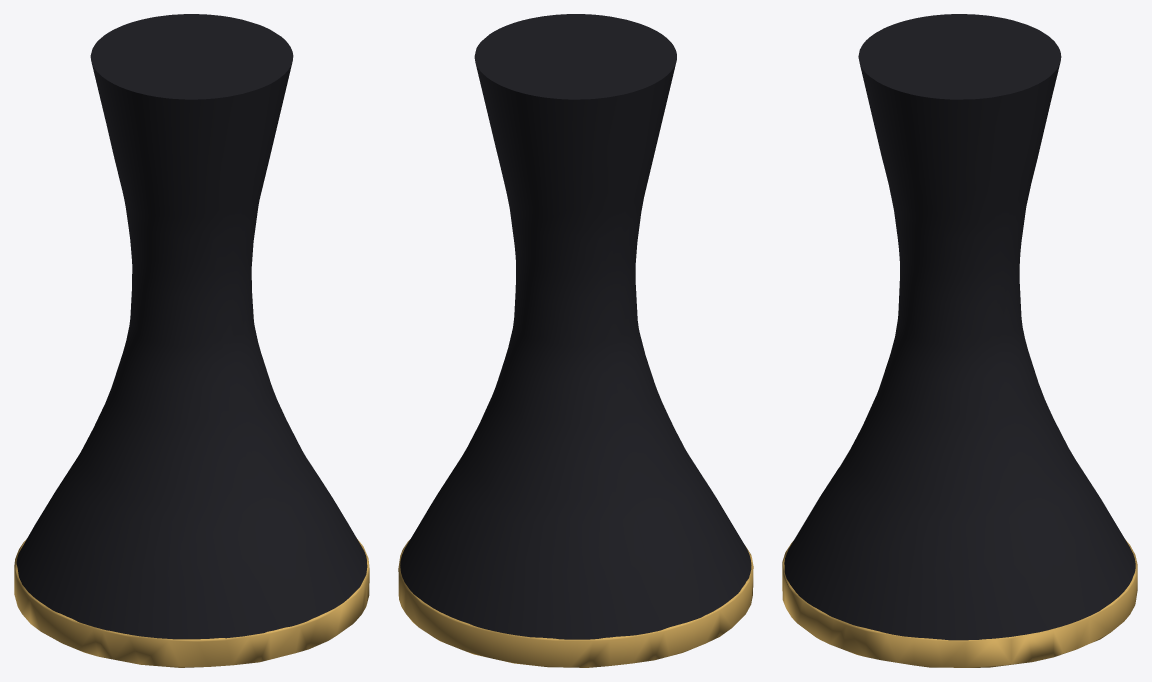
File: 01_pesec_cerna.glb
3 views of the same model, side by side, from view 1: azimuth 30°, elevation 25°; view 2: azimuth 150°, elevation 25°; view 3: azimuth 270°, elevation 25° (orthographic).
Parts seen in each view (by area): view 1: 01_pesec_telo_0, 01_pesec_podstavec; view 2: 01_pesec_telo_0, 01_pesec_podstavec; view 3: 01_pesec_telo_0, 01_pesec_podstavec.
Boxes of the visible parts, left/top/right/bottom form: 01_pesec_telo_0: left=16, top=14, right=367, bottom=639; 01_pesec_podstavec: left=14, top=539, right=369, bottom=667; 01_pesec_telo_0: left=400, top=14, right=751, bottom=639; 01_pesec_podstavec: left=398, top=540, right=753, bottom=667; 01_pesec_telo_0: left=784, top=14, right=1135, bottom=640; 01_pesec_podstavec: left=782, top=539, right=1137, bottom=667.
Size of the model in its own units: 0.042 by 0.07 by 0.0419.
